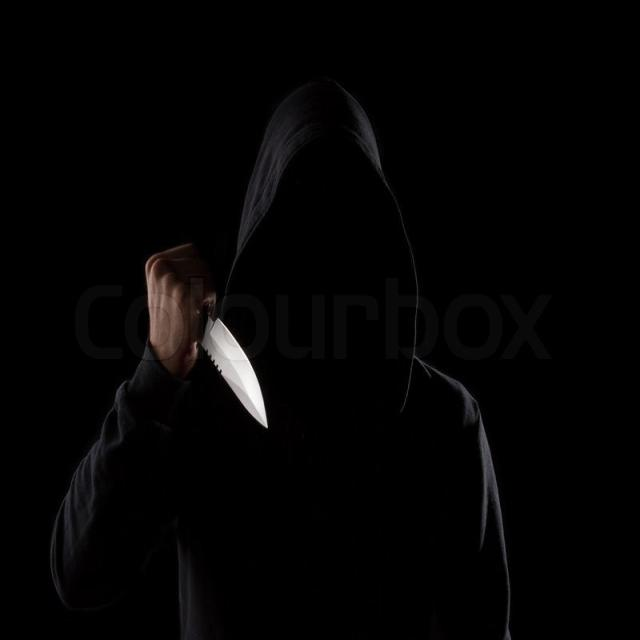knife: (198, 303, 274, 438)
